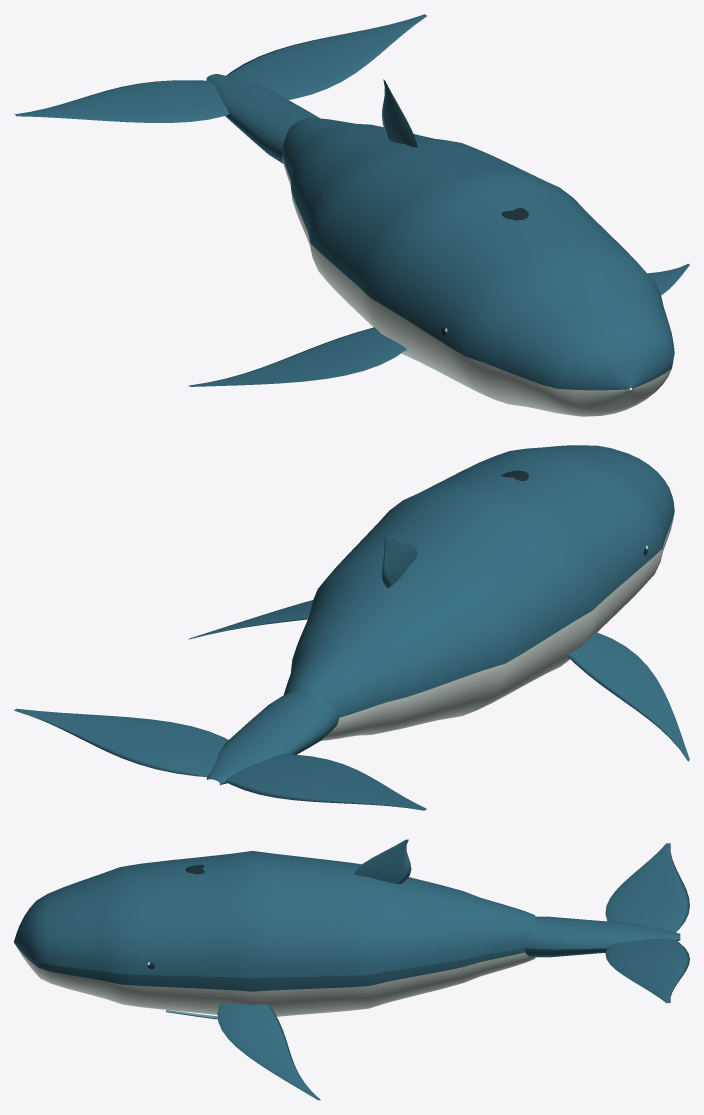
File: whale-catalog.glb
3 renders of one model, top to bottom at view 1: azimuth 30°, elevation 25°; view 2: azimuth 150°, elevation 25°; view 3: azimuth 270°, elevation 25°, orthographic. The views are drawn at different scales.
Parts seen in each view (by area): view 1: whale-body-static-material-1, whale-tail-static-material-1, whale-body-static-material-2; view 2: whale-body-static-material-1, whale-tail-static-material-1, whale-body-static-material-2; view 3: whale-body-static-material-1, whale-tail-static-material-1, whale-body-static-material-2.
Part boxes in pixels (left/top/right/bottom): whale-body-static-material-1: left=189, top=79, right=689, bottom=390; whale-tail-static-material-1: left=14, top=14, right=426, bottom=163; whale-body-static-material-2: left=282, top=156, right=671, bottom=416; whale-body-static-material-1: left=188, top=445, right=689, bottom=761; whale-tail-static-material-1: left=14, top=690, right=426, bottom=810; whale-body-static-material-2: left=321, top=514, right=674, bottom=740; whale-body-static-material-1: left=14, top=839, right=535, bottom=1100; whale-tail-static-material-1: left=524, top=843, right=689, bottom=1003; whale-body-static-material-2: left=14, top=943, right=535, bottom=1016.
Size of the model in its own units: 6.67 by 2.72 by 9.79.
